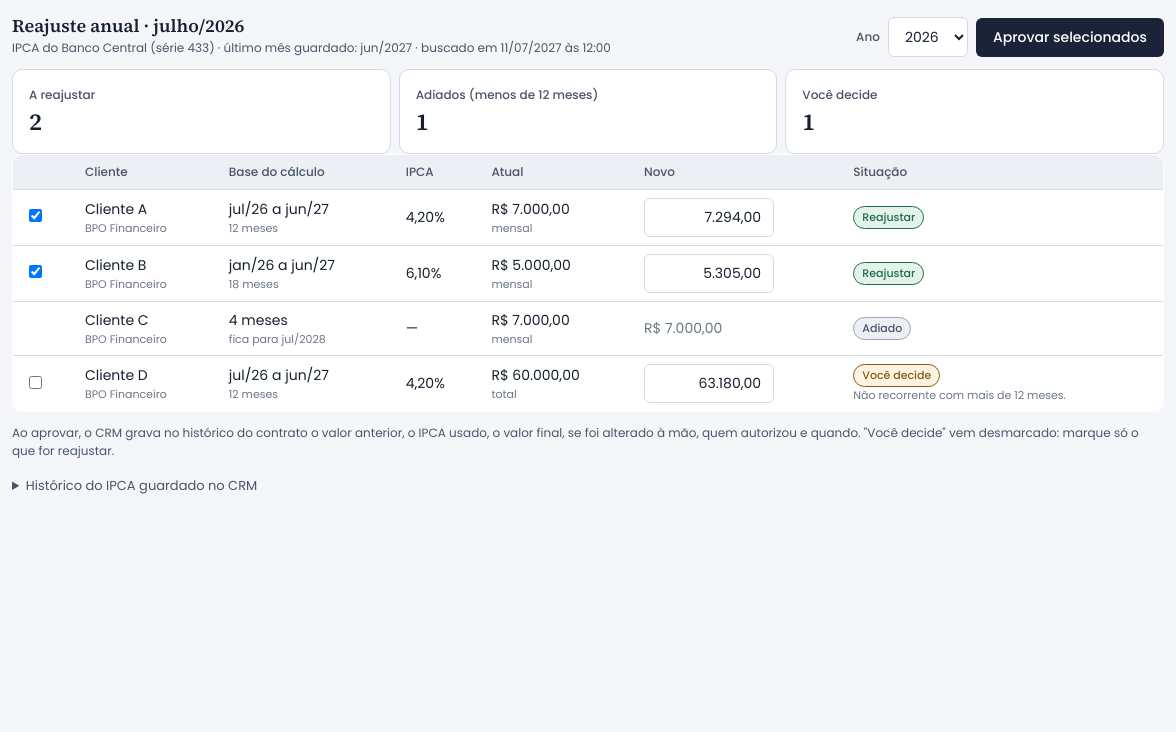
Test case: Reajuste anual (13/10/2026) › aprova com o valor alterado à mão e o anual acompanhando as parcelas
Replace the text in the field named "Valor reajustado de Cliente A" with "7.300,00": (709, 217) x1=644 y1=198 x2=774 y2=237
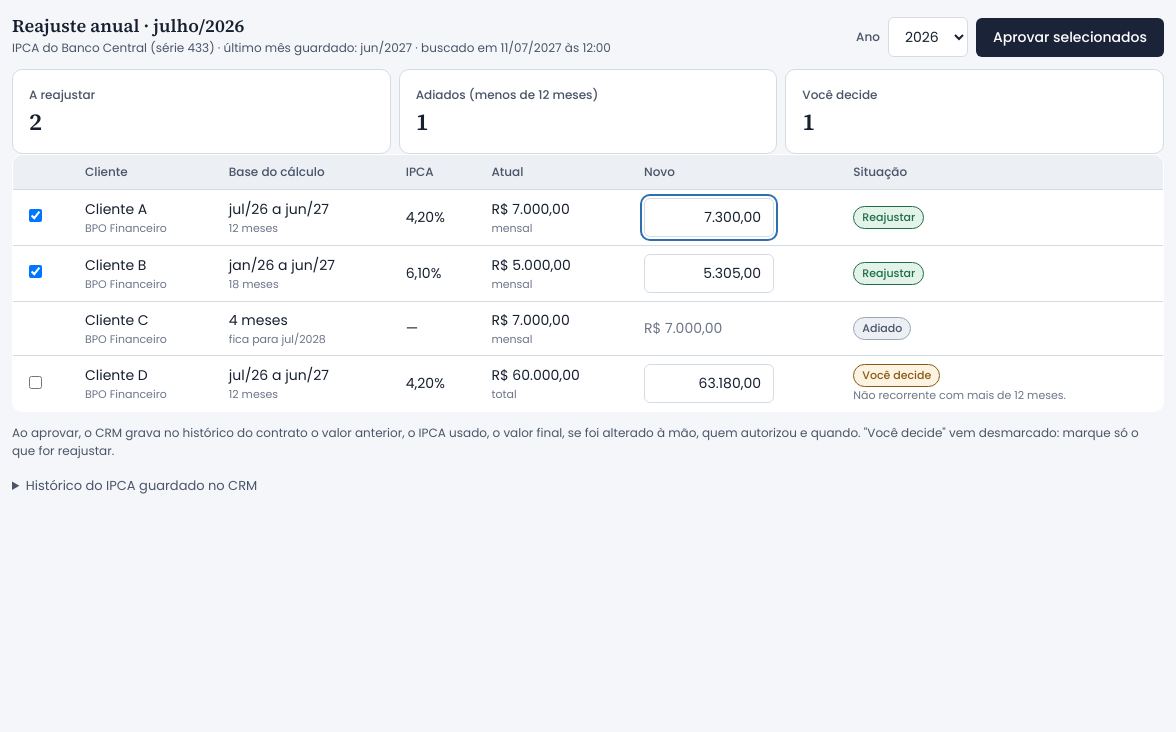
Click the button "Aprovar selecionados": (1070, 37) x1=976 y1=18 x2=1164 y2=56
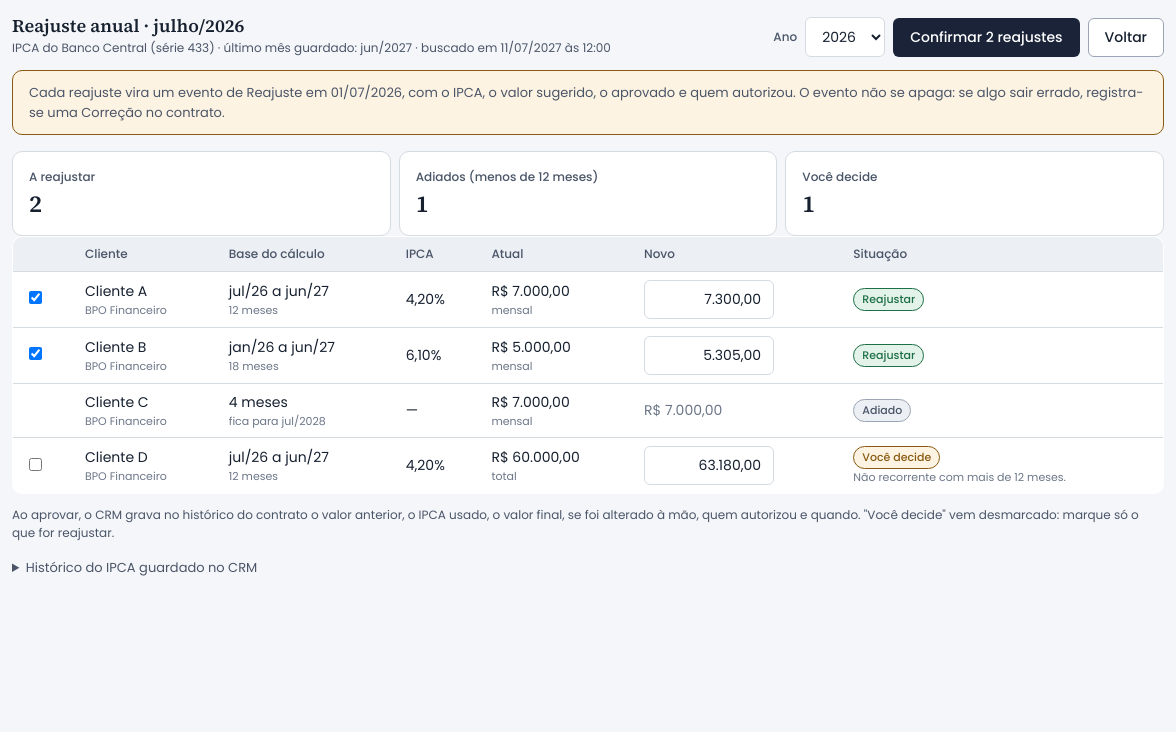
Click the button "Confirmar 2 reajustes": (986, 37) x1=893 y1=18 x2=1080 y2=56
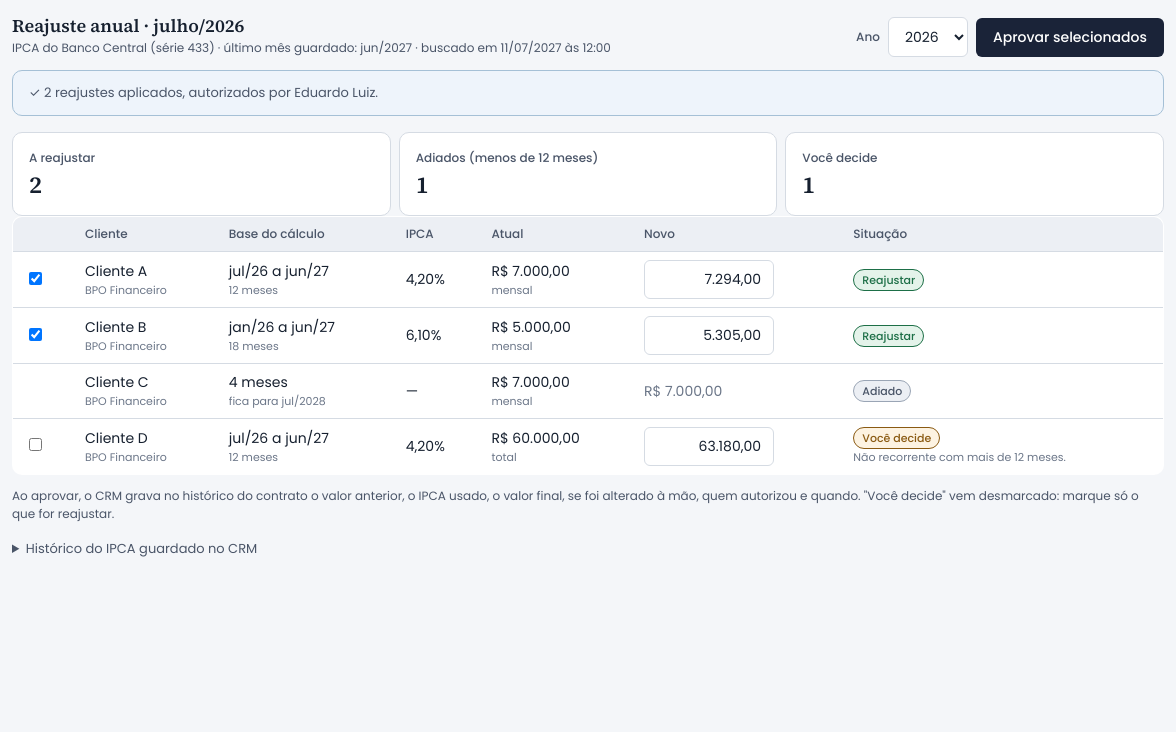
Expected: the text "✓ 2 reajustes aplicados, autorizados por Eduardo Luiz." is shown, x1=12 y1=70 x2=1164 y2=116
